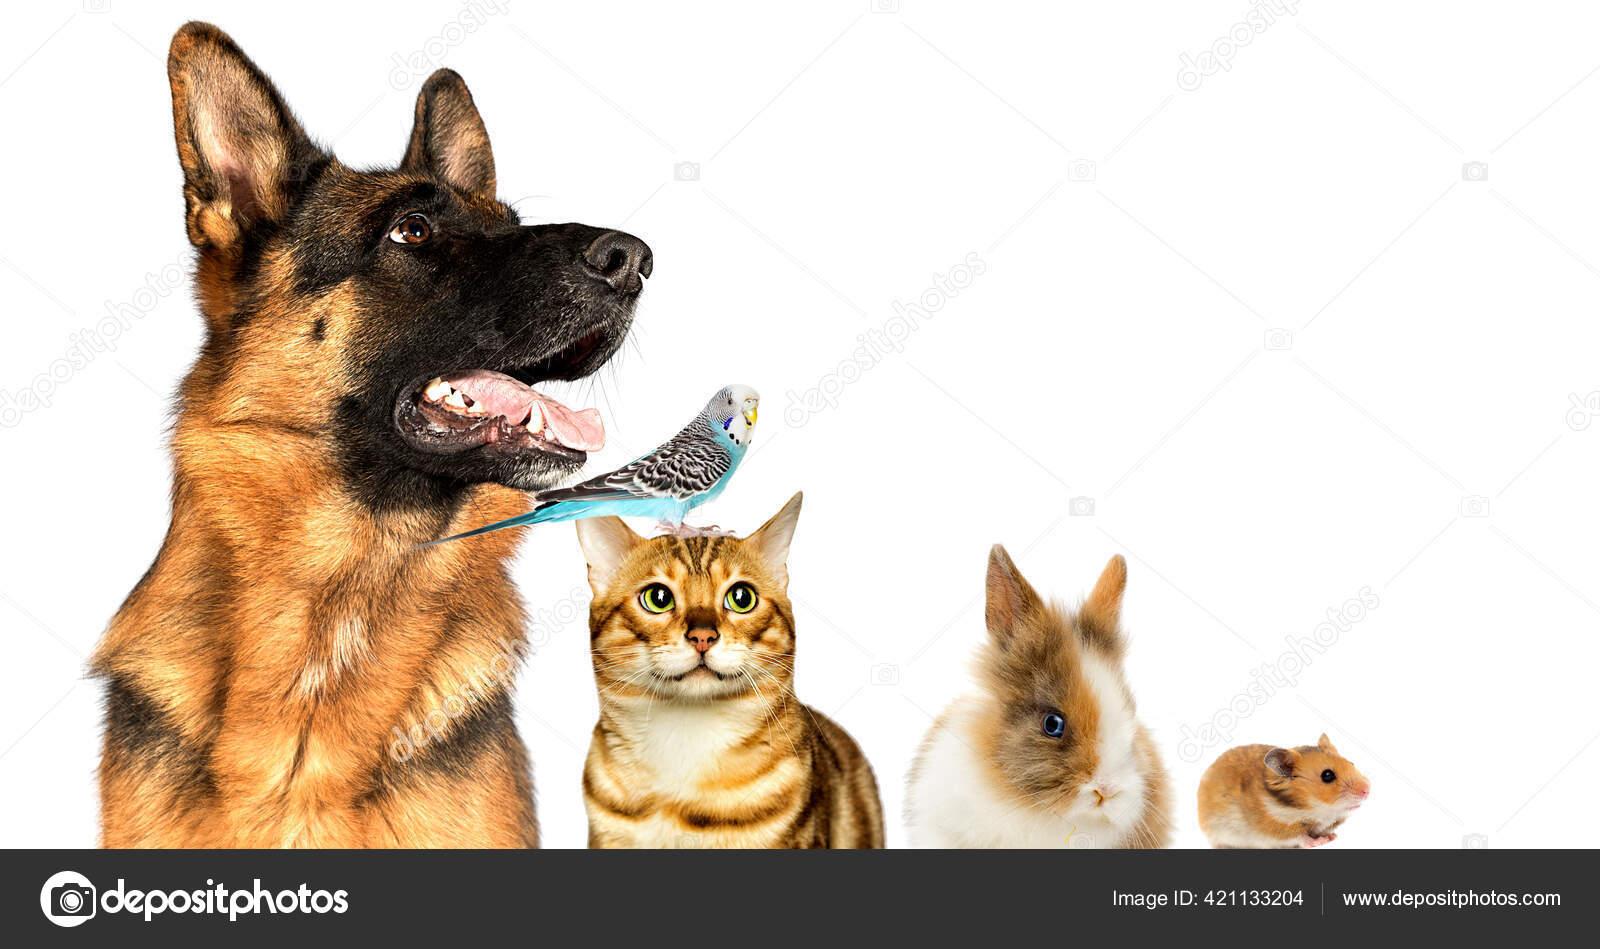cat: (547, 507, 882, 854)
dog: (112, 21, 595, 847)
rabbit: (907, 539, 1184, 850)
